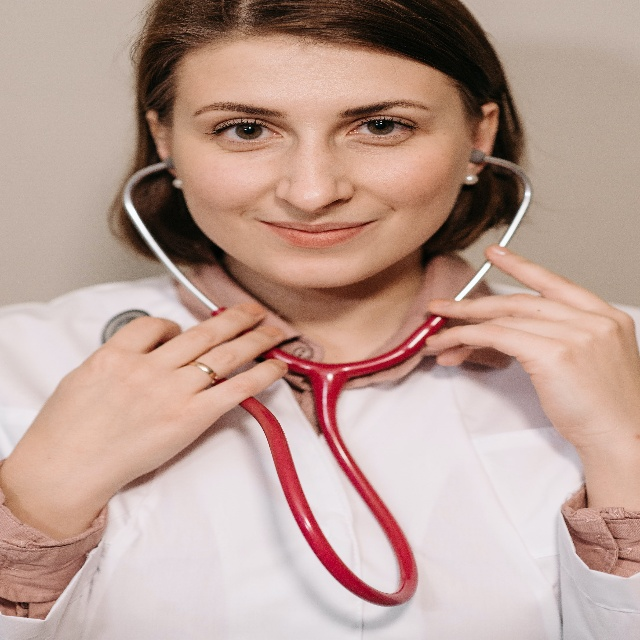Sin_guantes: (0, 292, 290, 538), (421, 242, 640, 425)
